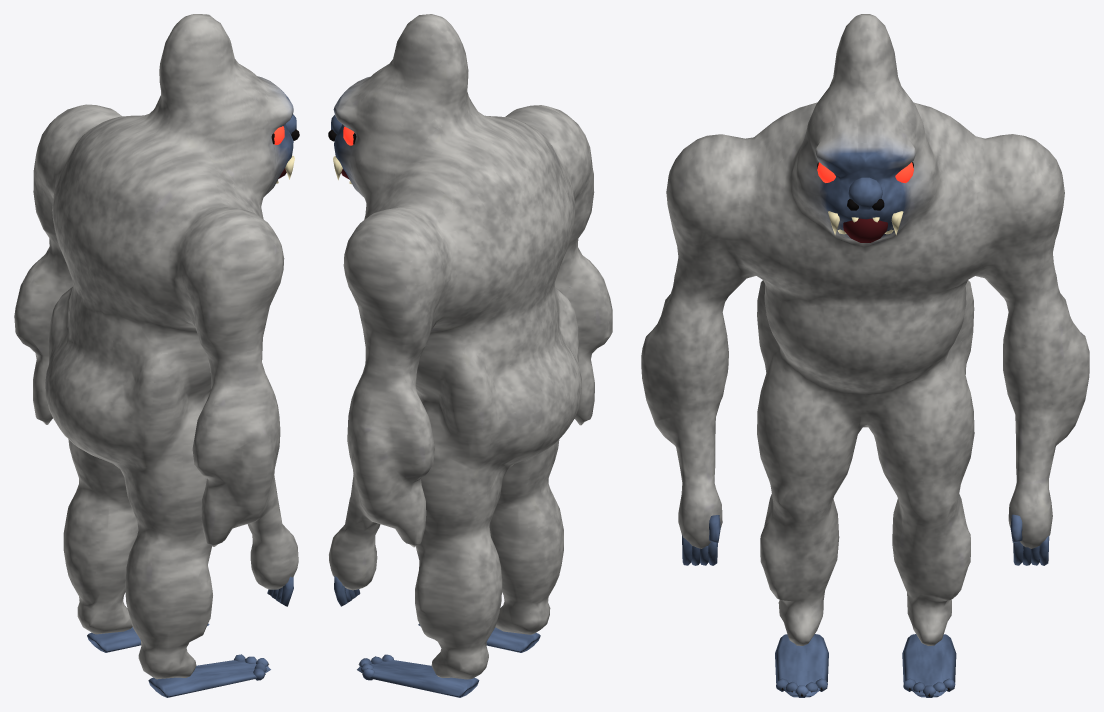
The model's file is yeti.glb.
3 renders of one model, left to right at view 1: azimuth 30°, elevation 25°; view 2: azimuth 150°, elevation 25°; view 3: azimuth 270°, elevation 25°, orthographic. The views are drawn at different scales.
Visible parts, largest first — view 1: yeti.001; view 2: yeti.001; view 3: yeti.001.
Boxes of the visible parts, <box> form: yeti.001: <box>14,14,299,697</box>; yeti.001: <box>328,14,612,697</box>; yeti.001: <box>641,14,1089,697</box>.
Bounding box in the file's own units: 0.879 × 2.3 × 1.41.
Materials: 7 (1 with a texture image).
